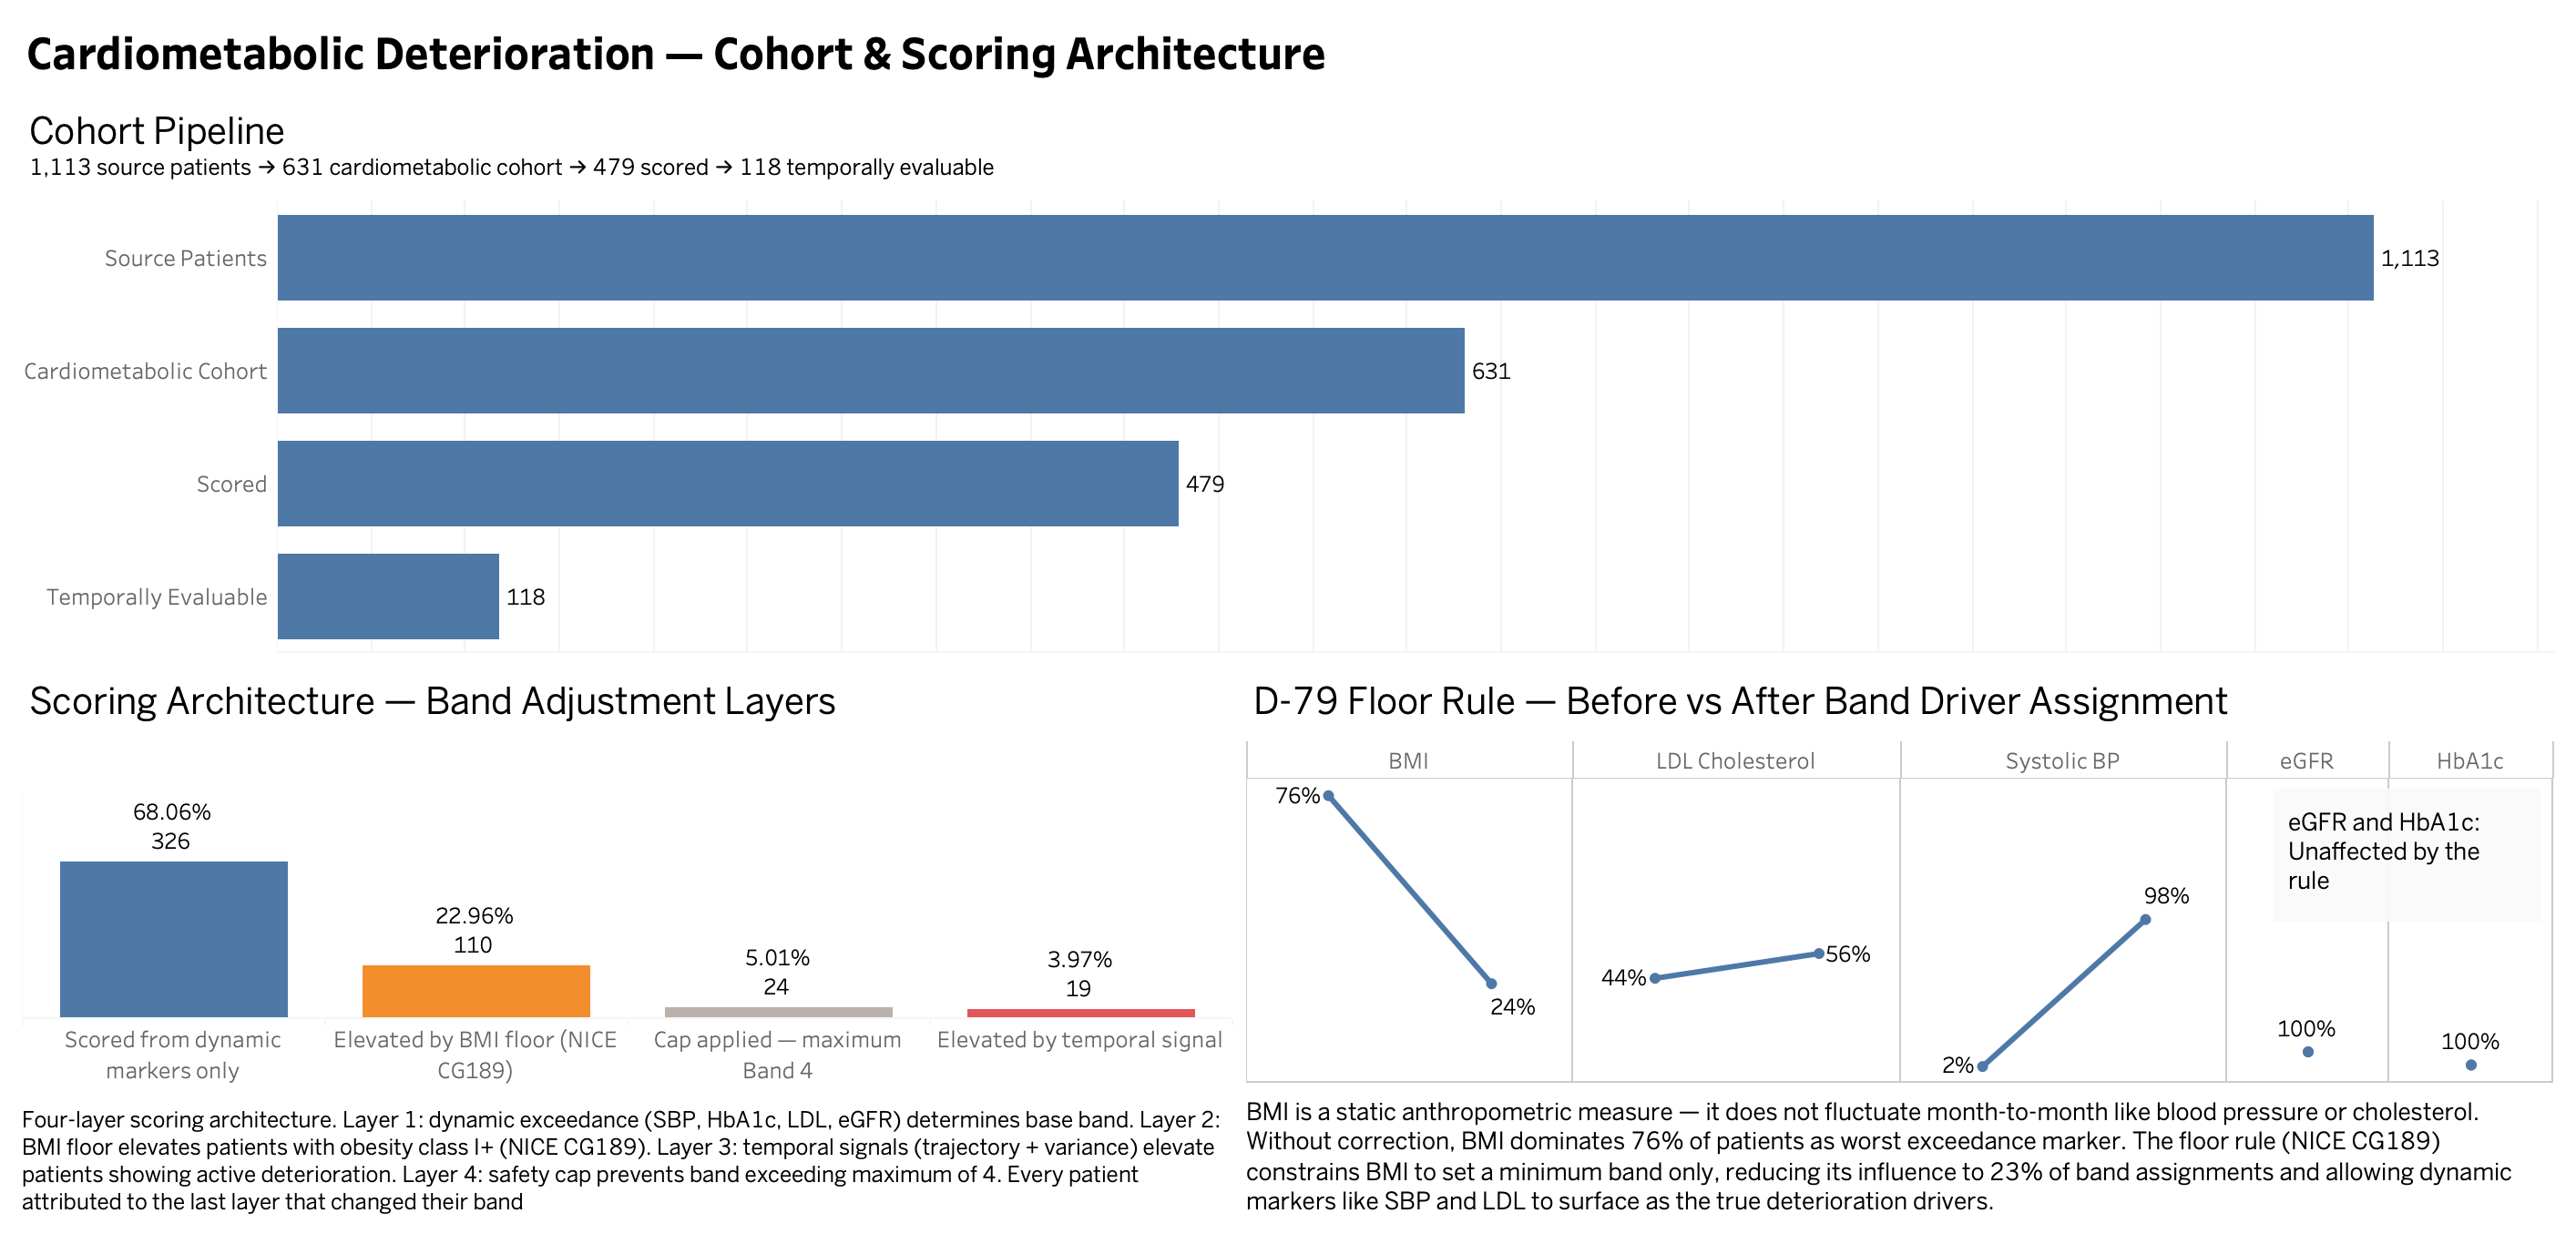

This screenshot's page, from the dashboard's own definition file:
{"tool":"tableau","page":{"name":"Dashboard 1","canvas":[1000,1000],"units":"permille","ordinal":0},"visuals":[{"type":"title","box":[5.7,11.7,988.7,60]},{"type":"worksheet","title":"Sheet 13","mark":"Bar","rows":["stage"],"cols":["n"],"box":[5.7,71.7,988.7,458.3]},{"type":"worksheet","title":"Sheet 25","mark":"Automatic","rows":["n"],"cols":["final_adjustment"],"box":[5.7,530,475.2,458.3]},{"type":"worksheet","title":"Sheet 23","mark":"Line","rows":["n"],"cols":["marker","comparison"],"box":[480.8,530,513.5,458.3]}]}

Visuals, with their boxes on the dashboard's canvas, which has no fixed pixel size, in thousandths of its width and height (x1, y1, x2, y2). These are canvas units, not pixel positions in the 2576x1244 screenshot, which may show the page scaled, cropped or inside an application window:
title: {"left": 6, "top": 12, "right": 994, "bottom": 72}
"Sheet 13" worksheet (Bar marks): {"left": 6, "top": 72, "right": 994, "bottom": 530}
"Sheet 25" worksheet: {"left": 6, "top": 530, "right": 481, "bottom": 988}
"Sheet 23" worksheet (Line marks): {"left": 481, "top": 530, "right": 994, "bottom": 988}
